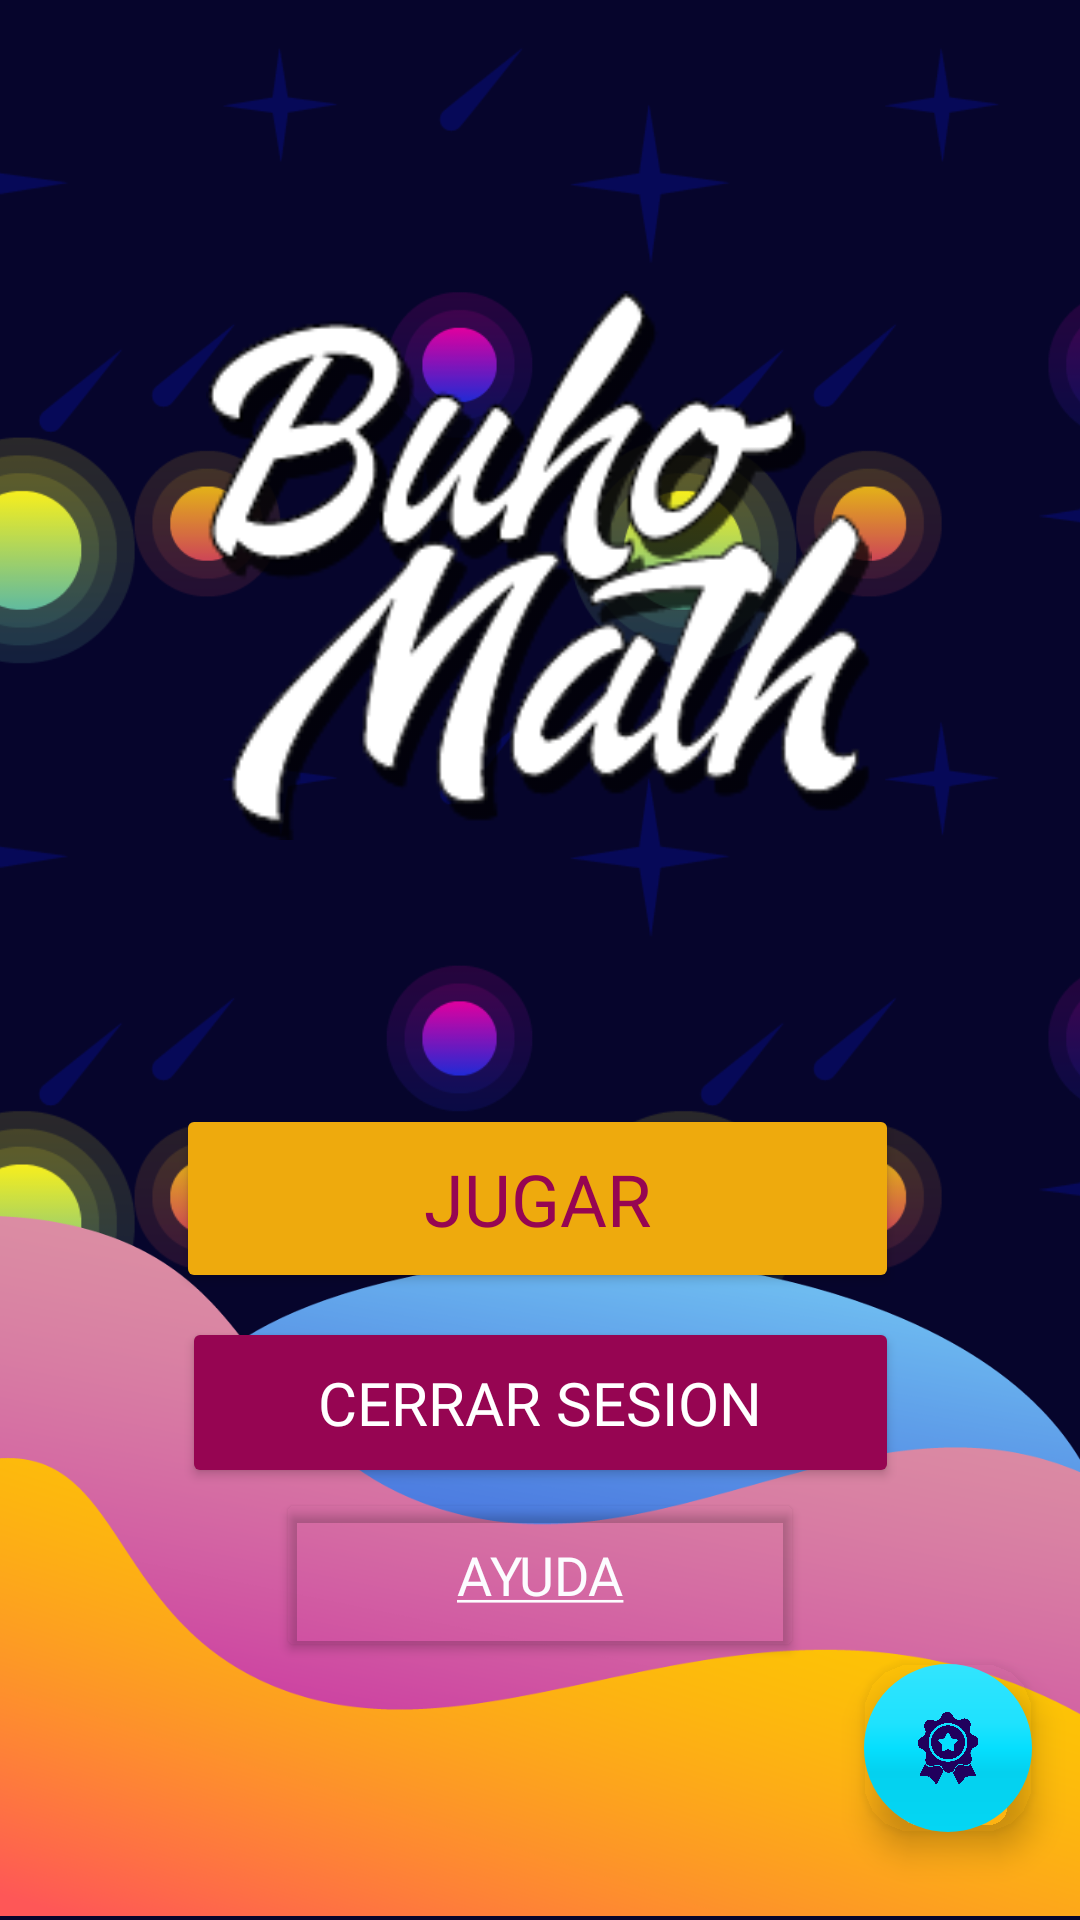

Screen size 1080px x 1920px. Icon name, then its center in pixels as (x=x, y=y):
RANKING: (x=948, y=1748)
